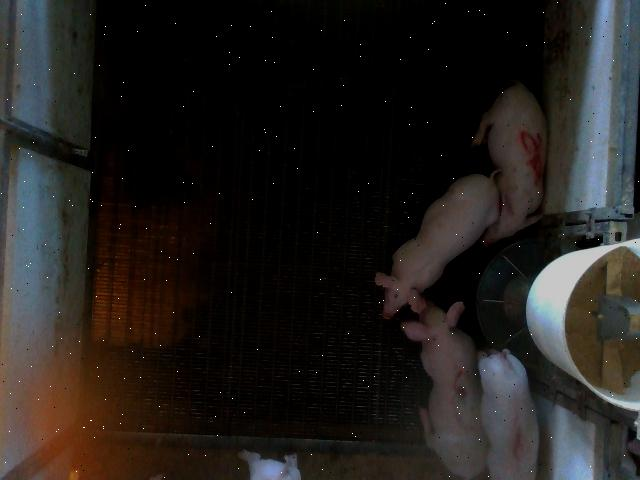pig-1: (478, 349, 539, 479)
pig-3: (401, 301, 488, 479)
pig-5: (471, 79, 548, 246)
